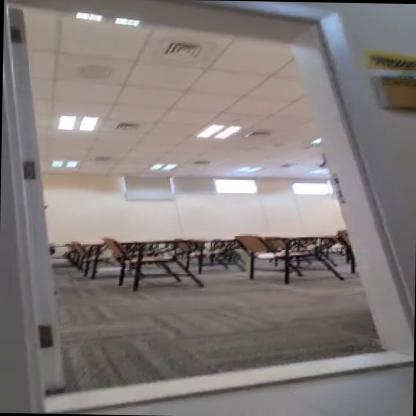open: (1, 0, 410, 416)
